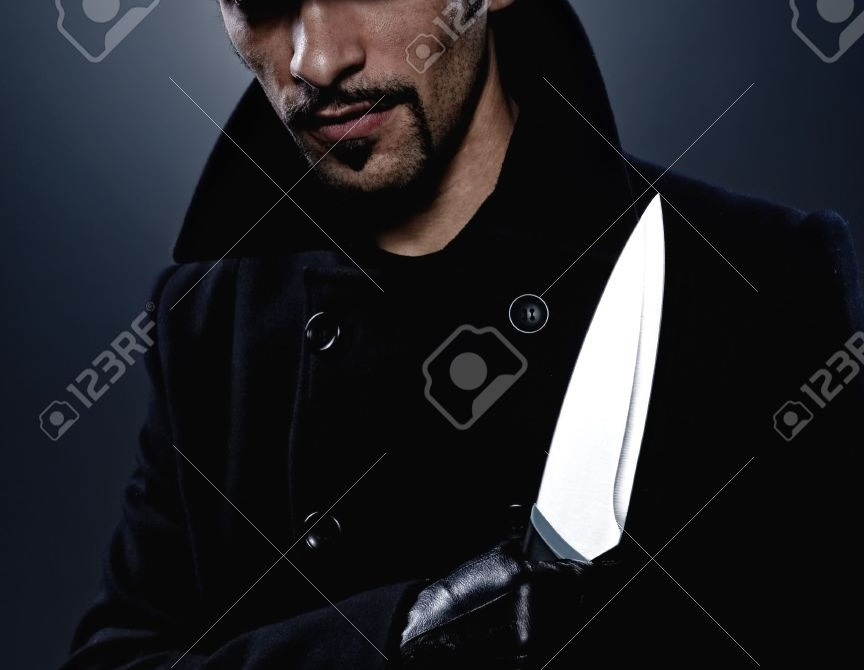knife: (516, 176, 677, 588)
